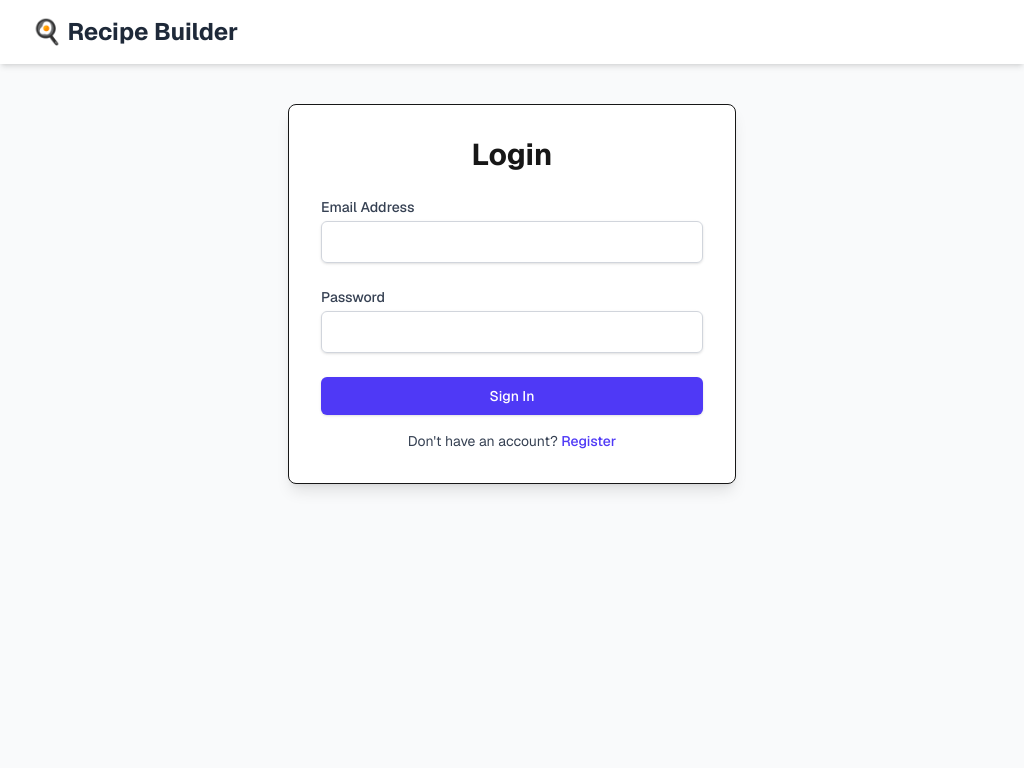
CookingFormulationApp - Authentication › should switch to the registration form when "Register" is clicked
Click the button "Register" at (589, 441), box [561,431,616,451]
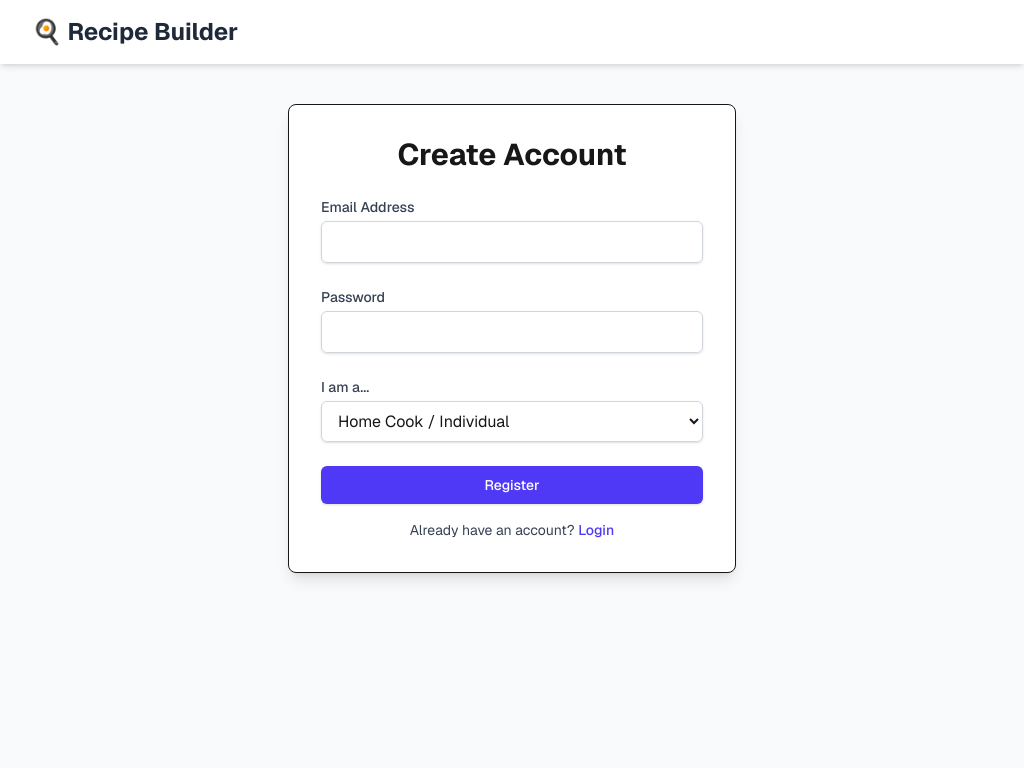
Now the heading "Create Account" is shown, box [397,135,627,174]
Now the dropdown labelled "I am a..." is shown, box [321,401,703,442]
